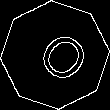O_SW: (22, 21, 88, 89)
